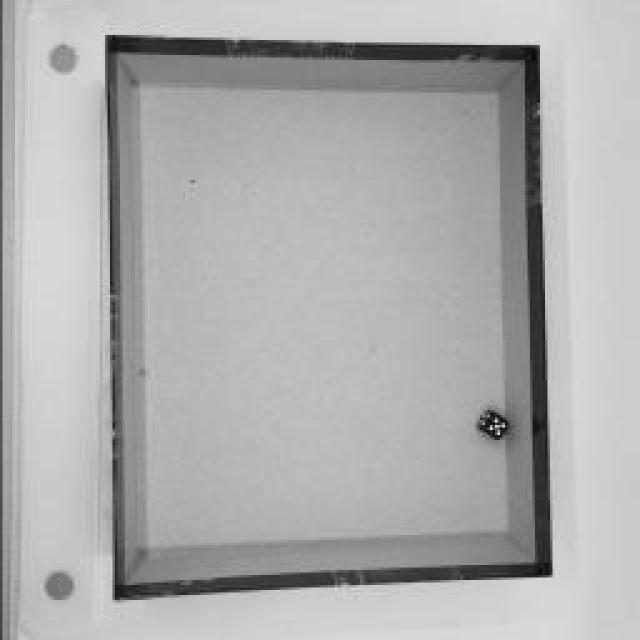dice_5: (476, 411, 509, 441)
